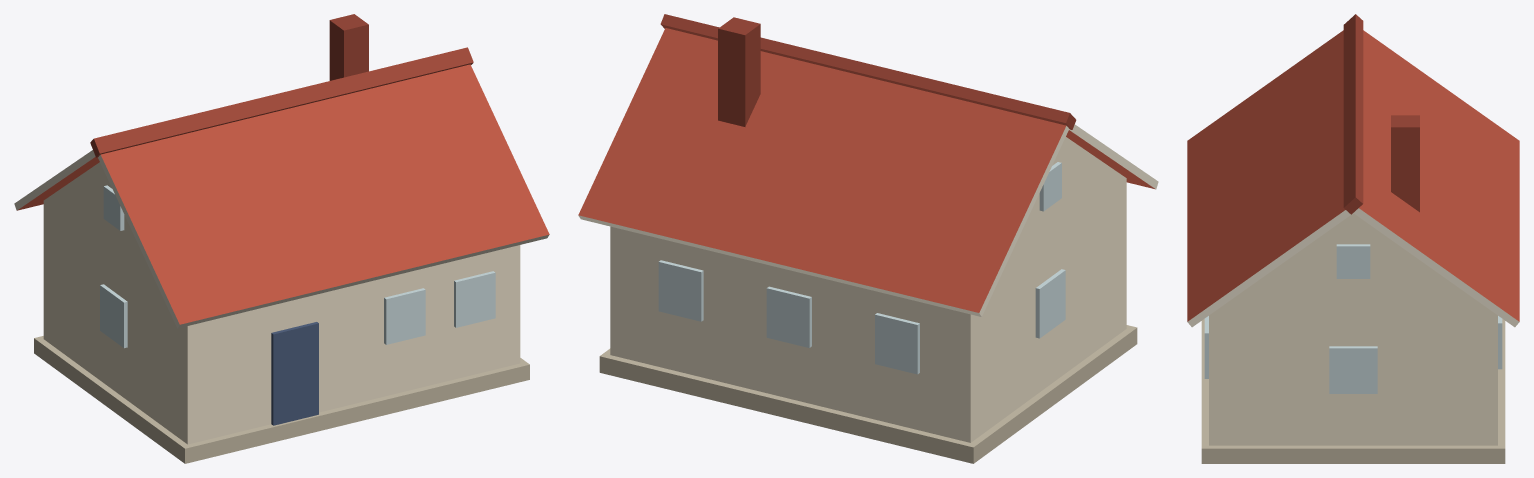
Rendered from house_cottage.glb.
The picture shows the model from 3 angles, left to right: view 1: azimuth 30°, elevation 25°; view 2: azimuth 150°, elevation 25°; view 3: azimuth 270°, elevation 25°; orthographic projection. The views are drawn at different scales.
Parts seen in each view (by area): view 1: house_cottage; view 2: house_cottage; view 3: house_cottage.
Boxes of the visible parts, left/top/right/bottom form: house_cottage: left=14, top=14, right=549, bottom=463; house_cottage: left=578, top=14, right=1158, bottom=463; house_cottage: left=1187, top=14, right=1519, bottom=463.
Bounding box in the file's own units: 9 × 6.96 × 6.9.
